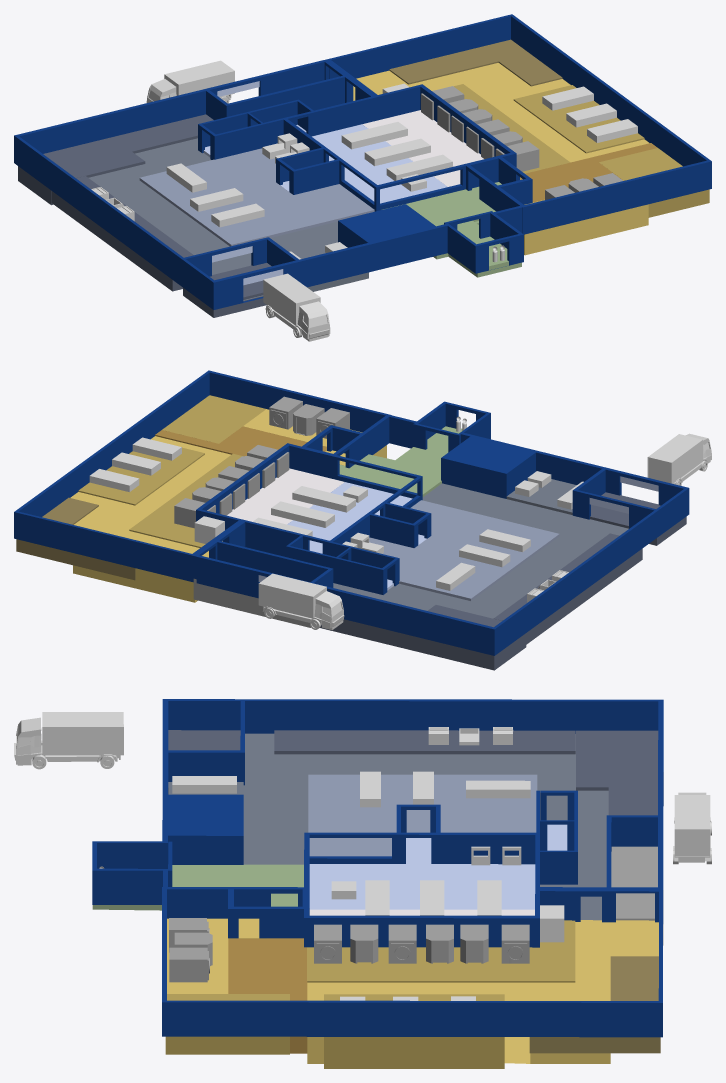
The model's file is bardusch_reinraum_optimized.gltf.
3 renders of one model, top to bottom at view 1: azimuth 30°, elevation 25°; view 2: azimuth 150°, elevation 25°; view 3: azimuth 270°, elevation 25°, orthographic. The views are drawn at different scales.
Parts seen in each view (by area): view 1: Grossraum_links.001, Grossraum_rechts, ISO Bereiche, Kommissionierung, Grossraum_links, Raum rechts, MBK Falten und Verpacken, Eckbereich_rechts, Cube.007, RR ISO 6, Eintritt, RR ISO 5 (+24 smaller); view 2: Grossraum_links.001, Grossraum_rechts, ISO Bereiche, Grossraum_links, Kommissionierung, Raum rechts, MBK Falten und Verpacken, Cube.006, Eintritt, Näherei, RR ISO 5, Eckbereich_rechts (+28 smaller); view 3: Grossraum_links.001, Grossraum_rechts, Grossraum_links, ISO Bereiche, Kommissionierung, Raum rechts, RR ISO 6, Waschmaschienen Bereich, Schmutzwäsche Sortierung, Seitenbereich_links, MBK Falten und Verpacken, Cube.007 (+27 smaller).
Part boxes in pixels (x1=…): Grossraum_links.001: x1=14, y1=59, x2=523, y2=309; Grossraum_rechts: x1=327, y1=14, x2=711, y2=234; ISO Bereiche: x1=198, y1=84, x2=516, y2=211; Kommissionierung: x1=139, y1=148, x2=374, y2=246; Grossraum_links: x1=88, y1=138, x2=337, y2=300; Raum rechts: x1=353, y1=63, x2=649, y2=162; MBK Falten und Verpacken: x1=18, y1=114, x2=213, y2=205; Eckbereich_rechts: x1=389, y1=39, x2=562, y2=86; Cube.007: x1=263, y1=273, x2=330, y2=341; RR ISO 6: x1=312, y1=124, x2=447, y2=203; Eintritt: x1=382, y1=182, x2=521, y2=277; RR ISO 5: x1=362, y1=110, x2=483, y2=186; Grossraum_links.001: x1=193, y1=401, x2=689, y2=655; Grossraum_rechts: x1=14, y1=370, x2=391, y2=581; ISO Bereiche: x1=196, y1=443, x2=431, y2=594; Grossraum_links: x1=333, y1=483, x2=628, y2=618; Kommissionierung: x1=369, y1=500, x2=559, y2=600; Raum rechts: x1=70, y1=436, x2=230, y2=602; MBK Falten und Verpacken: x1=320, y1=605, x2=526, y2=670; Cube.006: x1=258, y1=573, x2=344, y2=630; Eintritt: x1=339, y1=426, x2=462, y2=496; Näherei: x1=162, y1=395, x2=265, y2=443; RR ISO 5: x1=227, y1=468, x2=344, y2=524; Eckbereich_rechts: x1=16, y1=497, x2=135, y2=580; Grossraum_links.001: x1=92, y1=699, x2=663, y2=923; Grossraum_rechts: x1=162, y1=887, x2=662, y2=1037; Grossraum_links: x1=243, y1=733, x2=608, y2=920; ISO Bereiche: x1=304, y1=790, x2=577, y2=947; Kommissionierung: x1=308, y1=774, x2=537, y2=856; Raum rechts: x1=307, y1=920, x2=658, y2=1063; RR ISO 6: x1=309, y1=863, x2=535, y2=909; Waschmaschienen Bereich: x1=307, y1=920, x2=575, y2=982; Schmutzwäsche Sortierung: x1=324, y1=994, x2=504, y2=1068; Seitenbereich_links: x1=274, y1=730, x2=575, y2=754; MBK Falten und Verpacken: x1=576, y1=730, x2=658, y2=815; Cube.007: x1=14, y1=712, x2=123, y2=769.
Size of the model in its own units: 1.93 by 0.2221 by 1.87.
